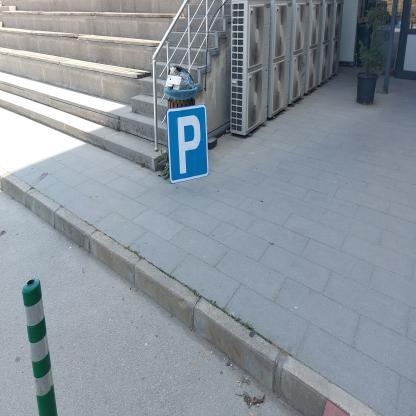parking: (166, 104, 208, 184)
